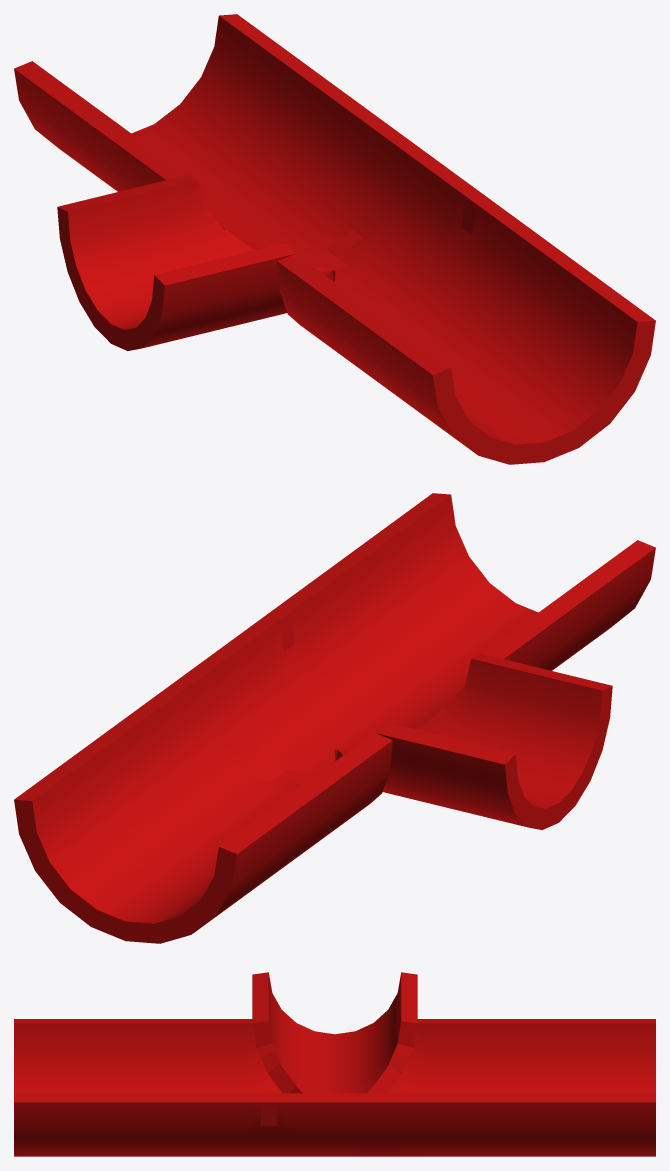
The model's file is Vessel_Artery_Tee.fbx.
The picture shows the model from 3 angles, top to bottom: view 1: azimuth 30°, elevation 25°; view 2: azimuth 150°, elevation 25°; view 3: azimuth 270°, elevation 25°; orthographic projection. The views are drawn at different scales.
Visible parts, largest first — view 1: pPipe137; view 2: pPipe137; view 3: pPipe137.
Part boxes in pixels (bbox=[...]): pPipe137: bbox=[14, 14, 655, 464]; pPipe137: bbox=[14, 493, 655, 943]; pPipe137: bbox=[14, 972, 655, 1156].
Size of the model in its own units: 4.51 by 1.55 by 9.75.
